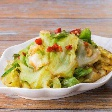juanxincairoupian: (2, 28, 112, 91)
